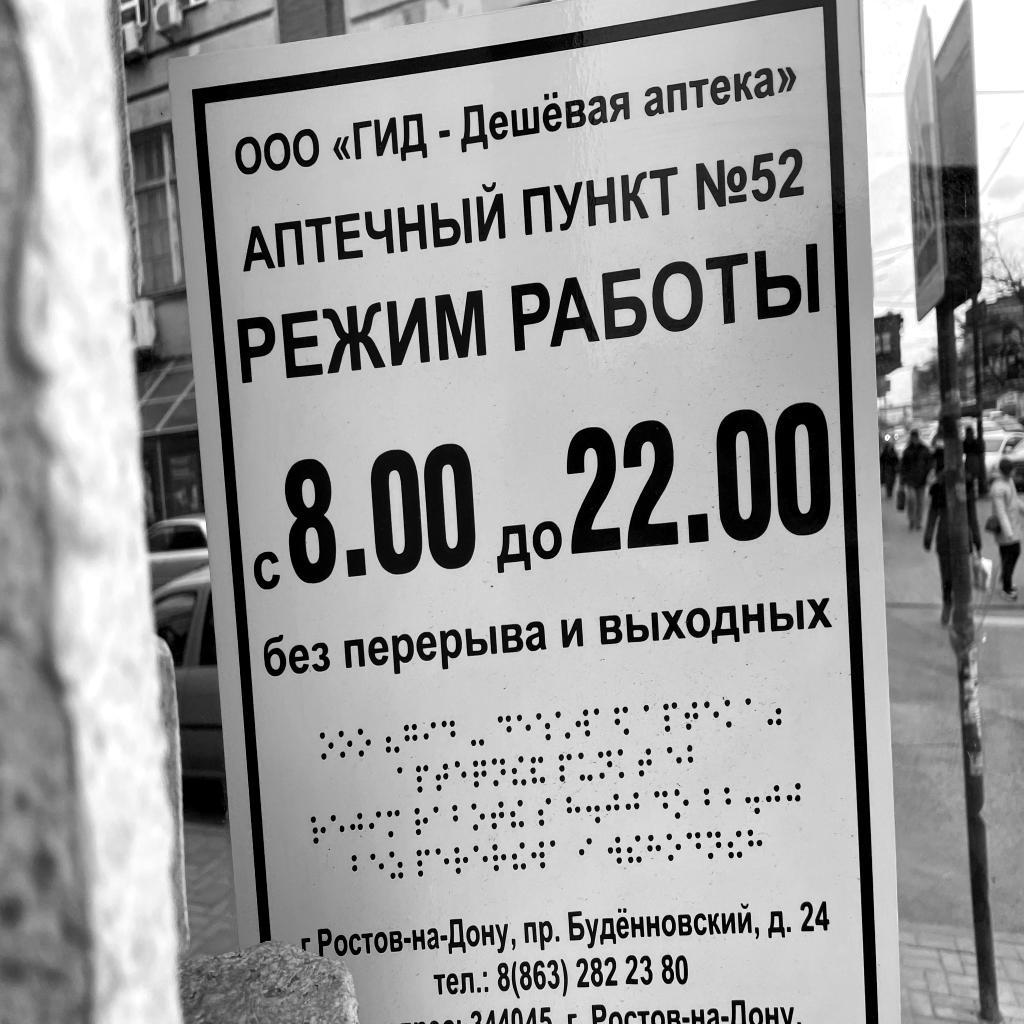_n: (706, 830, 722, 860), (598, 750, 613, 780), (492, 758, 506, 787)
_y: (578, 752, 593, 782)
a: (644, 705, 658, 733), (550, 840, 564, 868), (594, 708, 608, 735), (745, 698, 759, 725), (397, 767, 410, 795), (433, 806, 446, 833)
b: (352, 854, 366, 883), (452, 804, 465, 833)
ch: (473, 759, 487, 788)
d: (497, 714, 512, 744), (441, 720, 456, 749), (686, 831, 701, 860), (654, 789, 668, 820)
defis: (471, 720, 485, 747)
e: (516, 714, 531, 743), (330, 815, 345, 844), (473, 845, 488, 874), (704, 701, 719, 729), (435, 848, 450, 876), (370, 854, 384, 883), (454, 760, 467, 789)
g: (404, 723, 418, 752)
gh: (350, 812, 363, 841)
i: (423, 721, 437, 750), (579, 837, 592, 867), (369, 811, 382, 840)
iKratkoe: (531, 756, 545, 784)
ii: (626, 834, 642, 865), (512, 756, 527, 786), (728, 830, 743, 859), (511, 800, 525, 829), (512, 842, 526, 871)
k: (618, 749, 633, 779), (725, 699, 740, 728)
kavichki1: (386, 725, 400, 753)
kavichki2: (767, 697, 782, 726)
m: (387, 809, 400, 838)
o: (674, 789, 689, 820), (666, 833, 682, 862), (471, 802, 486, 831), (320, 731, 334, 760), (358, 728, 372, 757), (339, 730, 353, 758)
p: (663, 702, 678, 733), (558, 753, 573, 782), (416, 848, 430, 877), (416, 764, 429, 793)
r: (311, 815, 326, 845), (492, 844, 507, 872), (415, 807, 429, 836), (454, 846, 468, 875)
s: (538, 798, 552, 827)
sh: (536, 712, 551, 741)
t: (638, 747, 652, 777), (684, 701, 698, 730), (435, 763, 449, 792), (491, 801, 505, 830)
tochka: (745, 785, 760, 815), (586, 795, 600, 824)
v: (531, 840, 546, 871), (575, 708, 590, 737), (607, 836, 622, 865)
x: (747, 829, 763, 859), (647, 834, 662, 864)
ya: (614, 705, 629, 736)
yo: (555, 711, 571, 740)
z: (390, 851, 404, 880)
